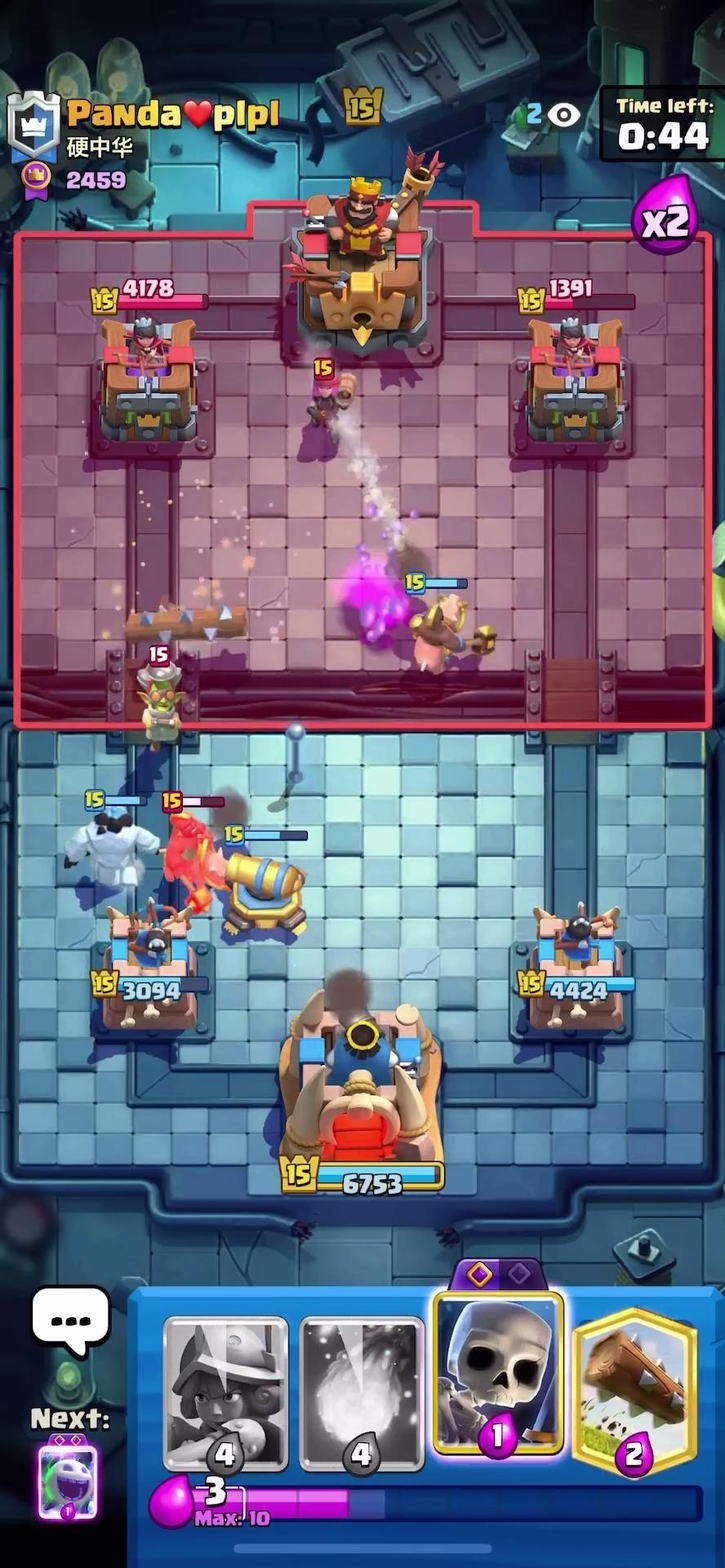cannon: (204, 825, 318, 947)
hog_rider: (384, 576, 488, 690)
ice_golem: (63, 774, 165, 894)
